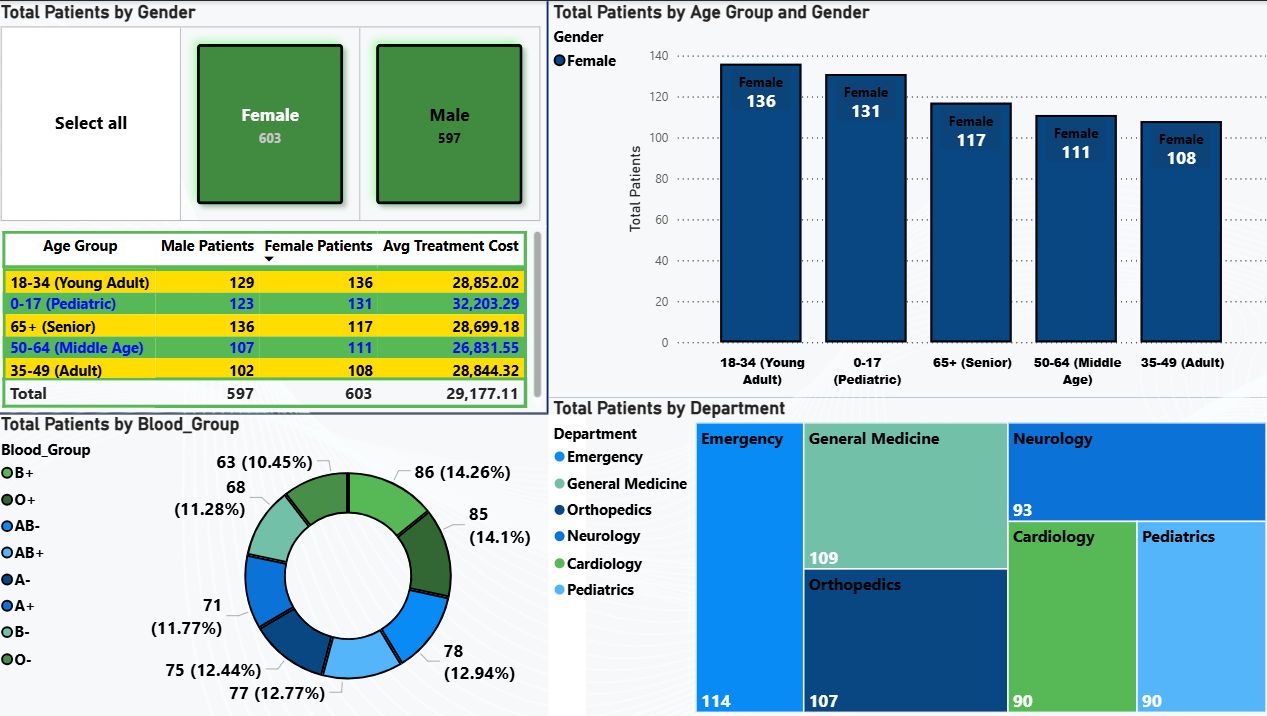

What the dashboard file says about the page in this screenshot:
{"tool":"powerbi","page":{"name":"Page 3","canvas":[1280,720],"ordinal":2},"visuals":[{"type":"advancedSlicerVisual","fields":{"Values":["hospital_patient_data_clean.Gender"],"Label":["DateTable.Total Patients"]},"box":[0,0,552.8,226.5],"z":0},{"type":"clusteredColumnChart","fields":{"Category":["hospital_patient_data_clean.Age Group"],"Y":["DateTable.Total Patients"],"Series":["hospital_patient_data_clean.Gender"]},"box":[554.3,0,725.7,397.9],"z":1000},{"type":"donutChart","fields":{"Category":["hospital_patient_data_clean.Blood_Group"],"Y":["DateTable.Total Patients"]},"box":[0,414.2,593.1,305.5],"z":2000},{"type":"treemap","fields":{"Group":["hospital_patient_data_clean.Department"],"Values":["DateTable.Total Patients"]},"box":[554.6,397.6,725.4,321.6],"z":3000},{"type":"tableEx","fields":{"Values":["hospital_patient_data_clean.Age Group","DateTable.Male Patients","DateTable.Female Patients","DateTable.Avg Treatment Cost"]},"box":[0,226,553,187.3],"z":4000}]}

Visuals, with their boxes in screenshot pixels (x1, y1, x2, y2), scaled from the page's 1280x720 canvas onto the 1267x716 screenshot:
advancedSlicerVisual - hospital_patient_data_clean.Gender x DateTable.Total Patients: [0,0,547,225]
clusteredColumnChart - hospital_patient_data_clean.Age Group x DateTable.Total Patients: [549,0,1266,396]
donutChart - hospital_patient_data_clean.Blood_Group x DateTable.Total Patients: [0,412,587,715]
treemap - hospital_patient_data_clean.Department x DateTable.Total Patients: [549,395,1266,715]
tableEx - hospital_patient_data_clean.Age Group x DateTable.Male Patients: [0,225,547,411]
